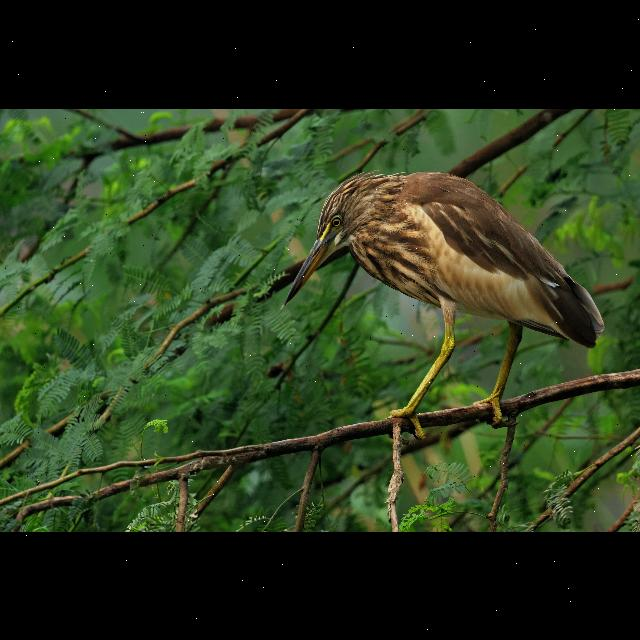heron: (277, 160, 607, 436)
